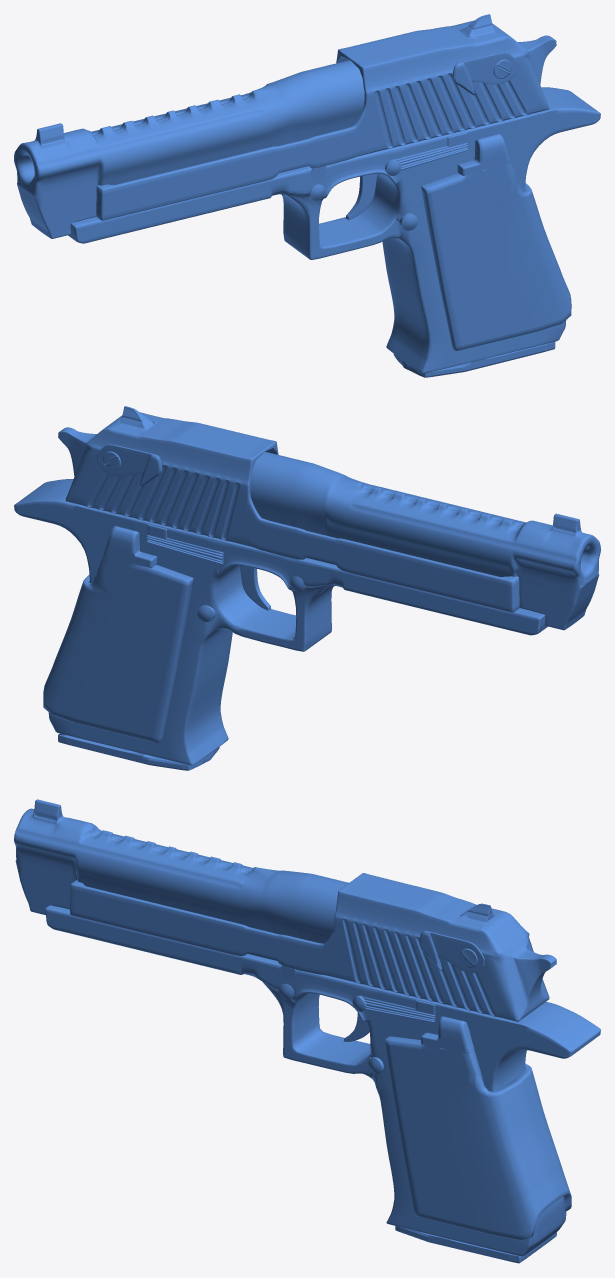
Rendered from deagle for ele.obj.
The picture shows the model from 3 angles, top to bottom: view 1: azimuth 30°, elevation 25°; view 2: azimuth 150°, elevation 25°; view 3: azimuth 330°, elevation 25°; orthographic projection.
Parts seen in each view (by area): view 1: Plane003, Plane004, Cylinder001, Plane005, Plane006, Plane008, Plane007, Box002; view 2: Plane003, Plane004, Cylinder001, Plane005, Plane009, Plane008, Plane010, Box002; view 3: Plane004, Plane005, Plane003, Cylinder001, Plane006, Plane008, Plane007.
Part boxes in pixels (bbox=[...]): Plane003: bbox=[68, 87, 600, 373]; Plane004: bbox=[96, 14, 556, 220]; Cylinder001: bbox=[14, 60, 364, 238]; Plane005: bbox=[421, 134, 571, 350]; Plane006: bbox=[452, 52, 517, 95]; Plane008: bbox=[393, 342, 555, 377]; Plane007: bbox=[394, 132, 467, 170]; Box002: bbox=[346, 173, 376, 220]; Plane003: bbox=[14, 479, 547, 765]; Plane004: bbox=[58, 406, 519, 612]; Cylinder001: bbox=[250, 451, 600, 630]; Plane005: bbox=[43, 526, 193, 742]; Plane009: bbox=[97, 444, 162, 487]; Plane008: bbox=[58, 733, 219, 770]; Plane010: bbox=[147, 524, 223, 564]; Box002: bbox=[240, 565, 271, 610]; Plane004: bbox=[70, 873, 556, 1021]; Plane005: bbox=[385, 1016, 571, 1240]; Plane003: bbox=[45, 905, 600, 1256]; Cylinder001: bbox=[14, 799, 348, 943]; Plane006: bbox=[419, 931, 484, 973]; Plane008: bbox=[395, 1226, 556, 1263]; Plane007: bbox=[361, 996, 435, 1022].
Size of the model in its own units: 60.98 by 34.66 by 7.98.
